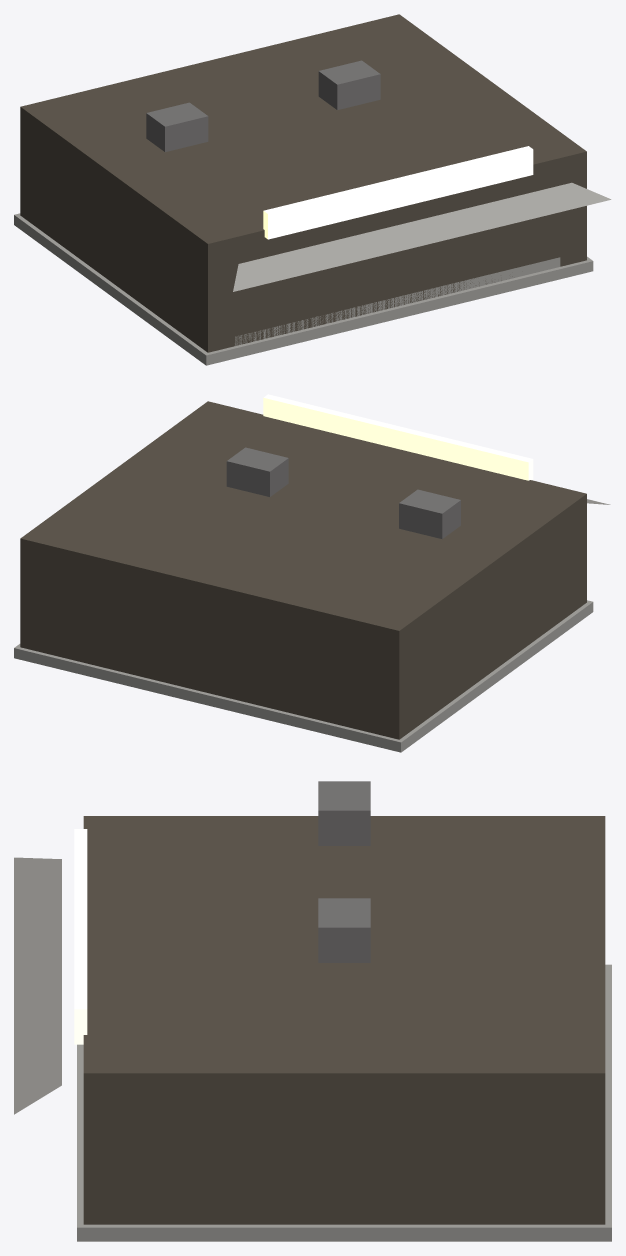
Rendered from b_shop3.glb.
3 renders of one model, top to bottom at view 1: azimuth 30°, elevation 25°; view 2: azimuth 150°, elevation 25°; view 3: azimuth 270°, elevation 25°, orthographic. The views are drawn at different scales.
Parts seen in each view (by area): view 1: Building; view 2: Building; view 3: Building.
Part boxes in pixels (<box>): Building: <box>14,14,611,365</box>; Building: <box>14,394,610,752</box>; Building: <box>14,781,611,1241</box>.
Size of the model in its own units: 14.3 by 5.8 by 13.75.
6 materials, 2 textured.
